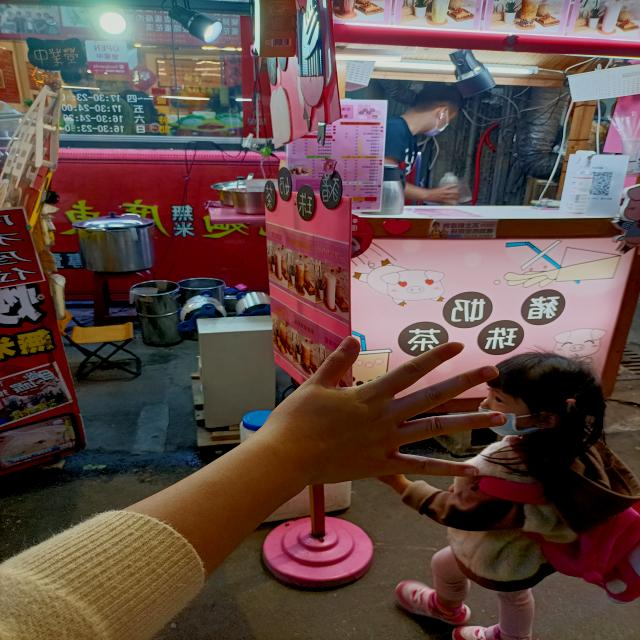no_glove: (238, 325, 514, 498)
